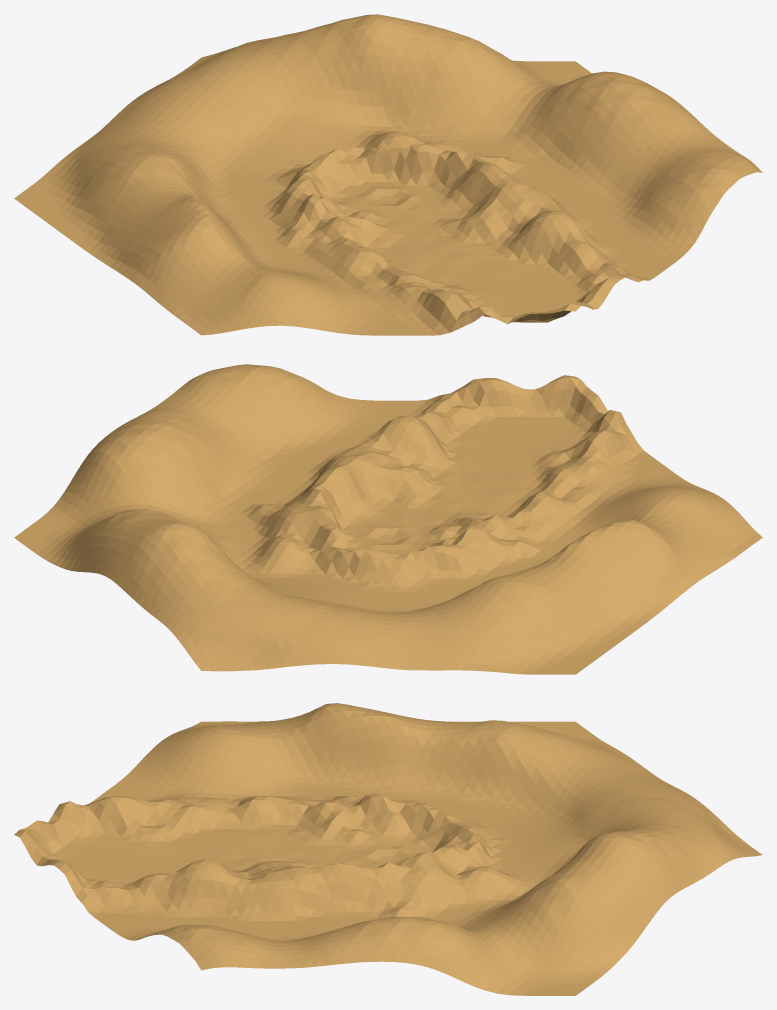
The model's file is Terrain.fbx.
3 views of the same model, one above another, from view 1: azimuth 30°, elevation 25°; view 2: azimuth 150°, elevation 25°; view 3: azimuth 270°, elevation 25° (orthographic).
Visible parts, largest first — view 1: Terrain; view 2: Terrain; view 3: Terrain.
Part boxes in pixels (x1=…): Terrain: x1=14, y1=14, x2=762, y2=335; Terrain: x1=14, y1=364, x2=762, y2=674; Terrain: x1=14, y1=703, x2=762, y2=995.
Bounding box in the file's own units: 15588 × 1944 × 18000.
